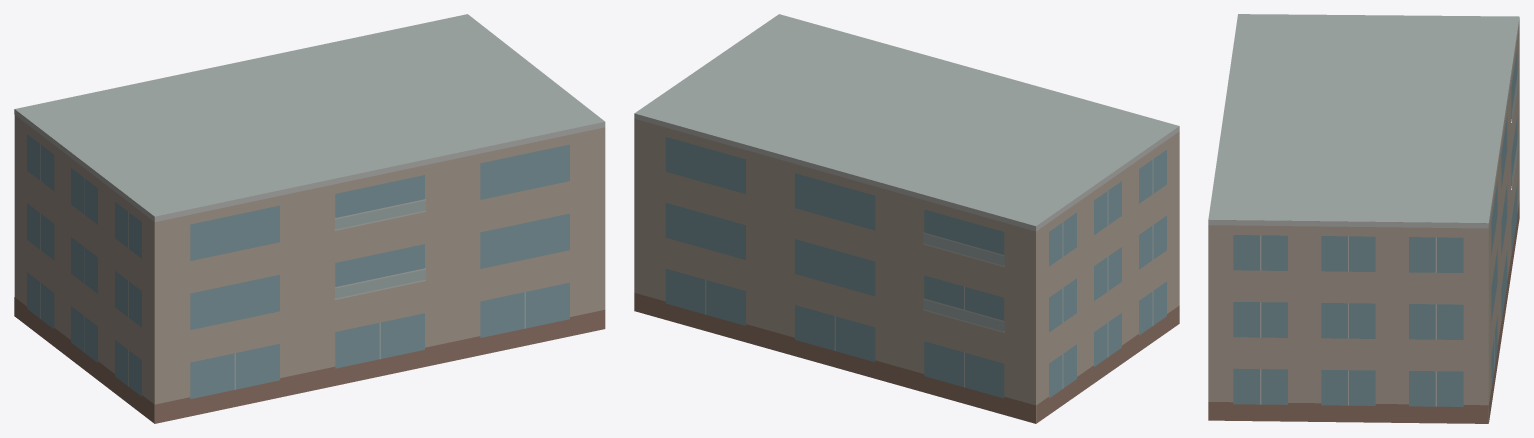
The model's file is survey-upis-32886318.glb.
The picture shows the model from 3 angles, left to right: view 1: azimuth 30°, elevation 25°; view 2: azimuth 150°, elevation 25°; view 3: azimuth 270°, elevation 25°; orthographic projection. The views are drawn at different scales.
Parts seen in each view (by area): view 1: survey-upis-32886318.tmp; view 2: survey-upis-32886318.tmp; view 3: survey-upis-32886318.tmp.
Part boxes in pixels (x1=…): survey-upis-32886318.tmp: x1=14, y1=14, x2=605, y2=423; survey-upis-32886318.tmp: x1=634, y1=14, x2=1179, y2=423; survey-upis-32886318.tmp: x1=1208, y1=14, x2=1519, y2=423.
Size of the model in its own units: 20.45 by 9.15 by 12.87.
